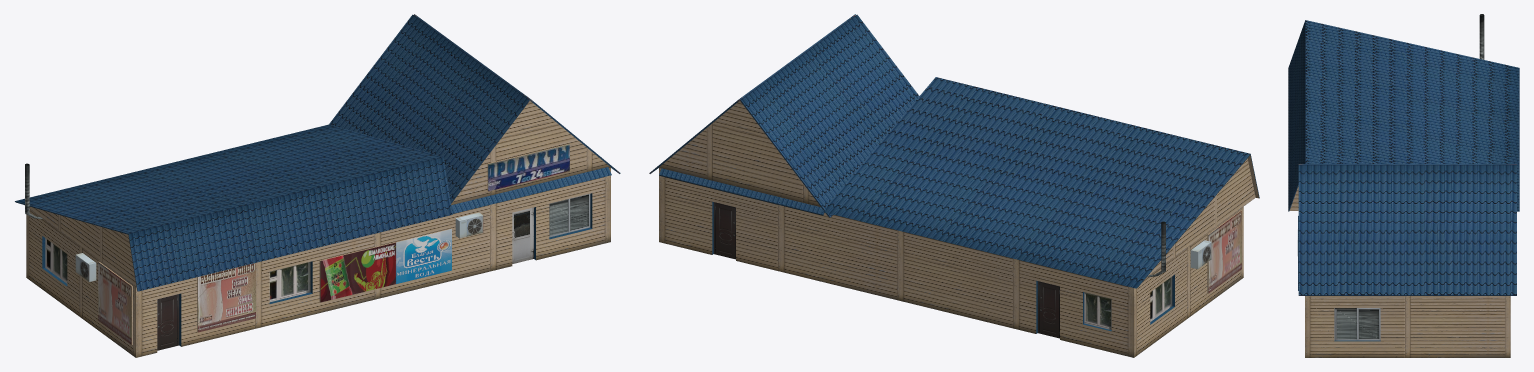
The model's file is r402_ishim_pivo.FBX.
3 views of the same model, side by side, from view 1: azimuth 30°, elevation 25°; view 2: azimuth 150°, elevation 25°; view 3: azimuth 270°, elevation 25° (orthographic). The views are drawn at different scales.
Visible parts, largest first — view 1: r402_ishim_pivo; view 2: r402_ishim_pivo; view 3: r402_ishim_pivo.
Boxes of the visible parts, x1=… form: r402_ishim_pivo: x1=15, y1=14, x2=620, y2=357; r402_ishim_pivo: x1=649, y1=14, x2=1259, y2=357; r402_ishim_pivo: x1=1288, y1=14, x2=1519, y2=357.
Size of the model in its own units: 2094 by 900 by 666.
